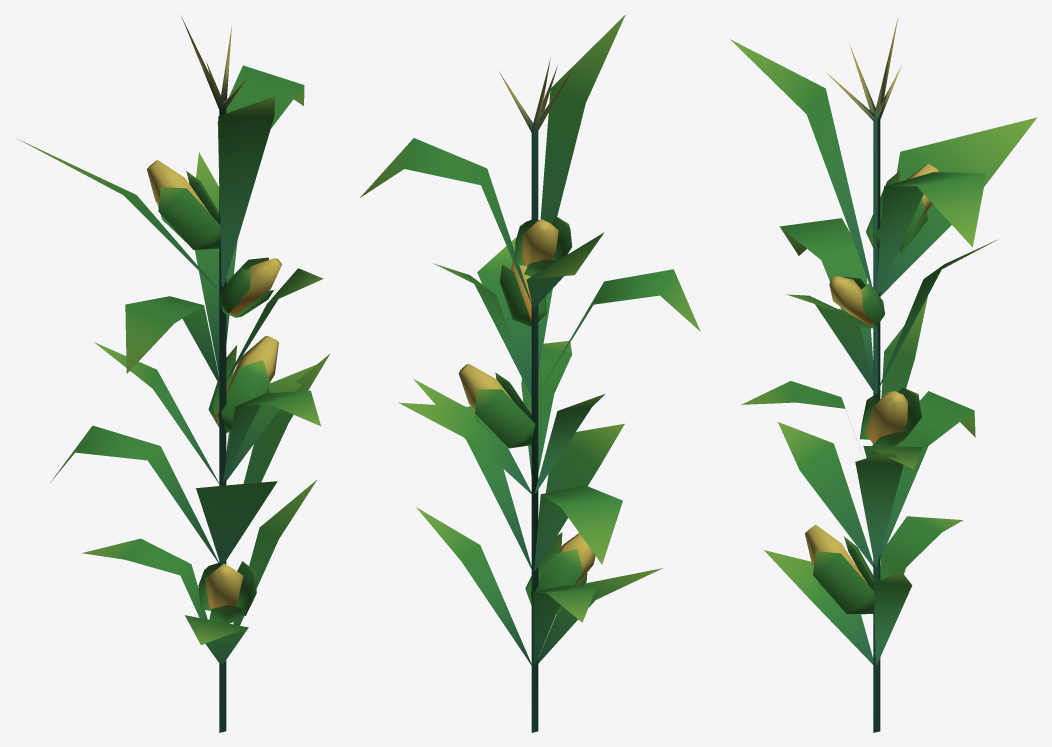
Rendered from milho-alto.glb.
The picture shows the model from 3 angles, left to right: view 1: azimuth 30°, elevation 25°; view 2: azimuth 150°, elevation 25°; view 3: azimuth 270°, elevation 25°; orthographic projection. The views are drawn at different scales.
Visible parts, largest first — view 1: corn_large; view 2: corn_large; view 3: corn_large.
Part boxes in pixels (x1,y1,x2,y2): corn_large: [18, 16, 330, 732]; corn_large: [360, 15, 700, 732]; corn_large: [730, 17, 1037, 732].
Size of the model in its own units: 0.8122 by 2.09 by 0.8305.
